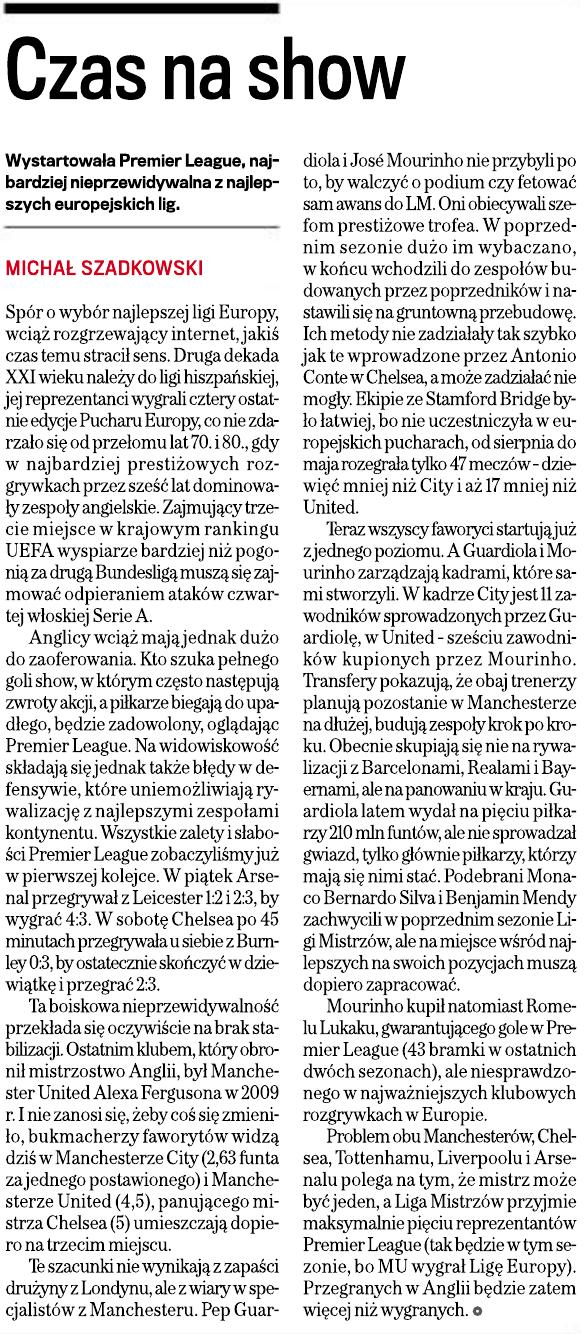author: (5, 253, 214, 284)
body: (298, 140, 587, 1326), (3, 298, 289, 1324)
lead: (3, 141, 289, 221)
title: (4, 26, 420, 118)
